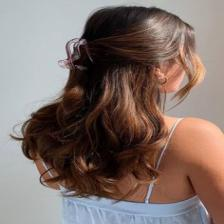brown: (23, 66, 160, 194)
